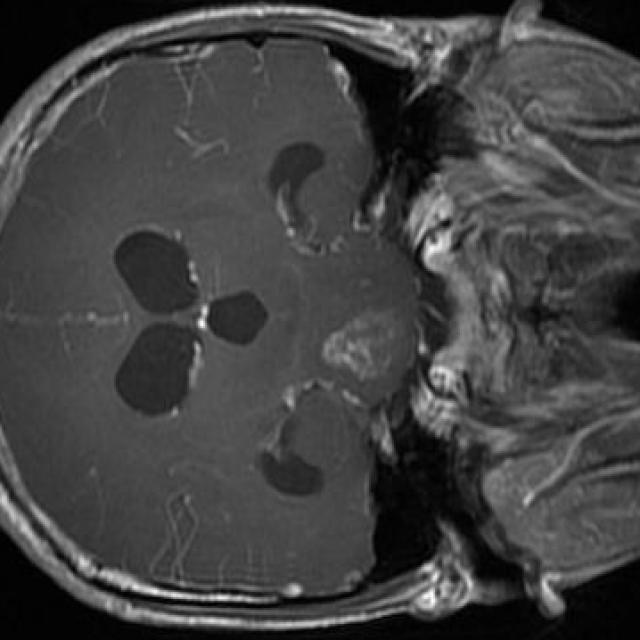glioma: (323, 314, 408, 376)
